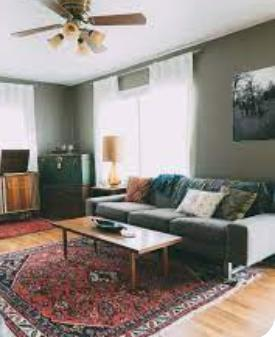carpet: (0, 237, 234, 337)
